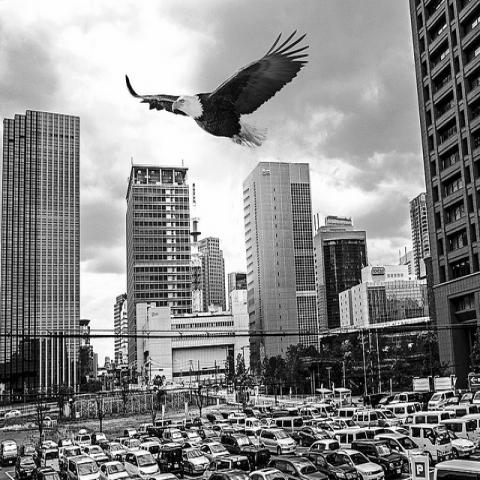car: (1, 380, 479, 479), (374, 434, 424, 472), (124, 450, 161, 479), (259, 428, 297, 454), (67, 454, 102, 479), (98, 460, 132, 478), (0, 438, 19, 468), (206, 467, 253, 479), (199, 442, 230, 460), (138, 441, 161, 459), (91, 432, 110, 449), (163, 428, 184, 443), (313, 404, 335, 417), (24, 442, 38, 458)
truck: (350, 438, 404, 480), (400, 423, 452, 465), (427, 390, 459, 410)
